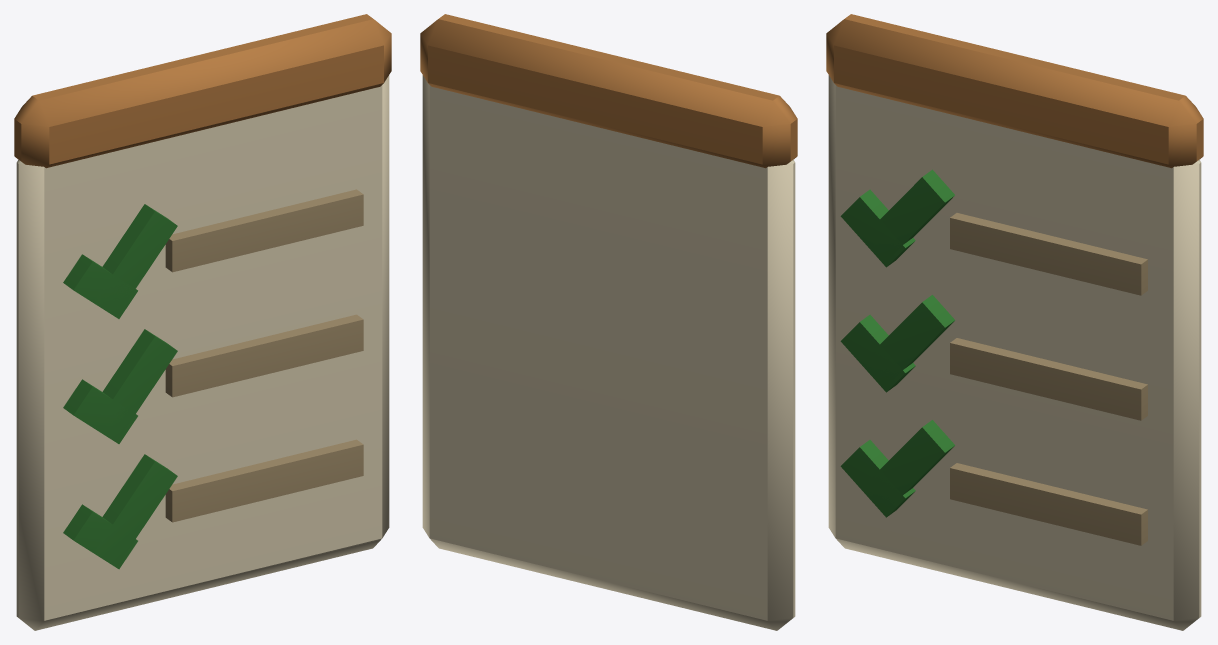
Rendered from ui_report.glb.
3 renders of one model, left to right at view 1: azimuth 30°, elevation 25°; view 2: azimuth 150°, elevation 25°; view 3: azimuth 330°, elevation 25°, orthographic.
Parts seen in each view (by area): view 1: body; view 2: body; view 3: body.
Boxes of the visible parts, left/top/right/bottom form: body: left=14, top=14, right=391, bottom=630; body: left=420, top=14, right=797, bottom=630; body: left=826, top=14, right=1203, bottom=630.
Bounding box in the file's own units: 0.31 × 0.425 × 0.0525.
